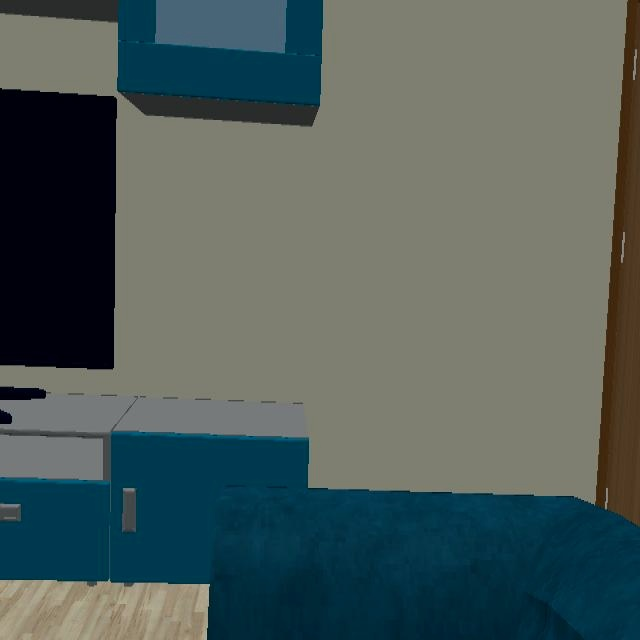cabinet: (0, 395, 310, 587), (0, 0, 324, 128)
monitor: (0, 89, 116, 369)
sofa: (205, 485, 640, 640)
